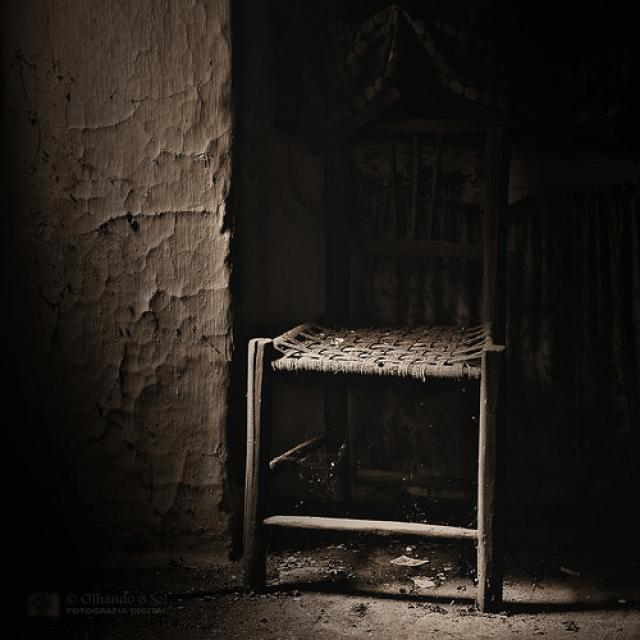chair: (191, 63, 562, 609)
